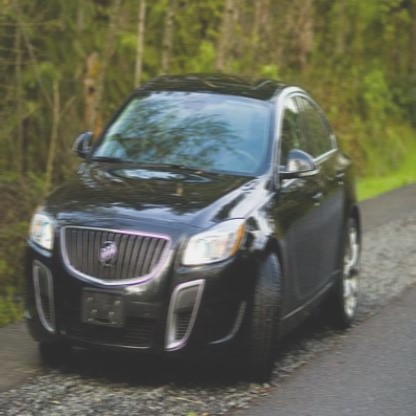Vehicle: (24, 74, 363, 384)
